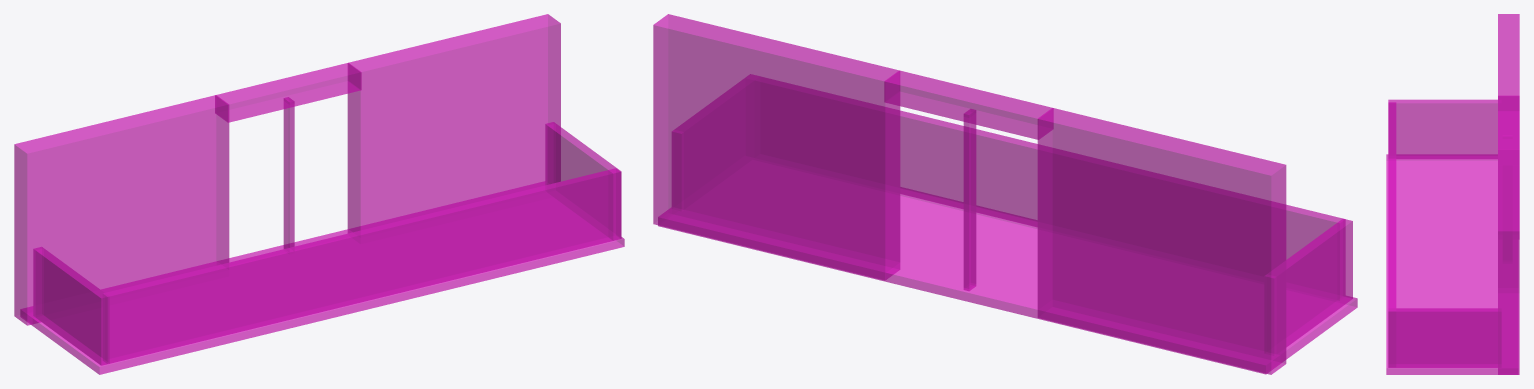
File: SM_Bld_Balcony_02_Collision.fbx
The picture shows the model from 3 angles, left to right: view 1: azimuth 30°, elevation 25°; view 2: azimuth 150°, elevation 25°; view 3: azimuth 270°, elevation 25°; orthographic projection. The views are drawn at different scales.
Parts seen in each view (by area): view 1: SM_Bld_Balcony_02_Collision; view 2: SM_Bld_Balcony_02_Collision; view 3: SM_Bld_Balcony_02_Collision.
Boxes of the visible parts, x1=… form: SM_Bld_Balcony_02_Collision: x1=14, y1=14, x2=624, y2=374; SM_Bld_Balcony_02_Collision: x1=653, y1=14, x2=1357, y2=374; SM_Bld_Balcony_02_Collision: x1=1386, y1=14, x2=1519, y2=374.
Bounding box in the file's own units: 1003 × 311 × 260.
